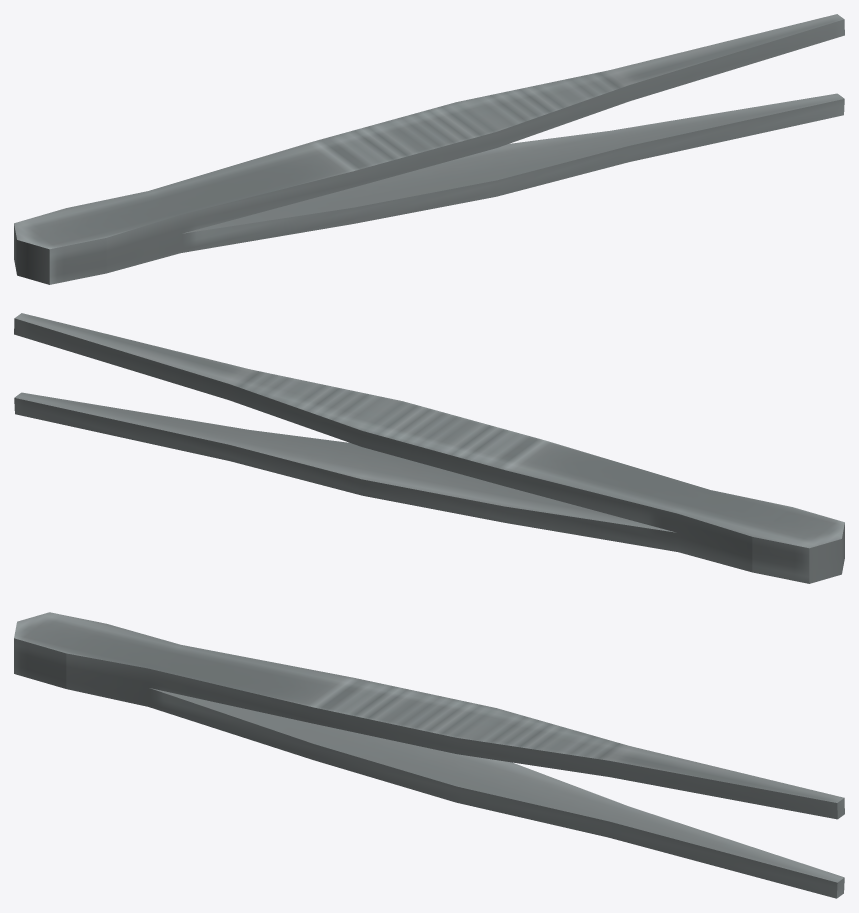
File: CeSuo_01_niezi_01.FBX
The picture shows the model from 3 angles, top to bottom: view 1: azimuth 30°, elevation 25°; view 2: azimuth 150°, elevation 25°; view 3: azimuth 330°, elevation 25°; orthographic projection.
Parts seen in each view (by area): view 1: CeSuo_01_niezi_01; view 2: CeSuo_01_niezi_01; view 3: CeSuo_01_niezi_01.
Part boxes in pixels (x1,y1,x2,y2): CeSuo_01_niezi_01: (14,14,844,284); CeSuo_01_niezi_01: (14,313,844,583); CeSuo_01_niezi_01: (14,612,844,898).
Size of the model in its own units: 111 by 12.38 by 9.49.
